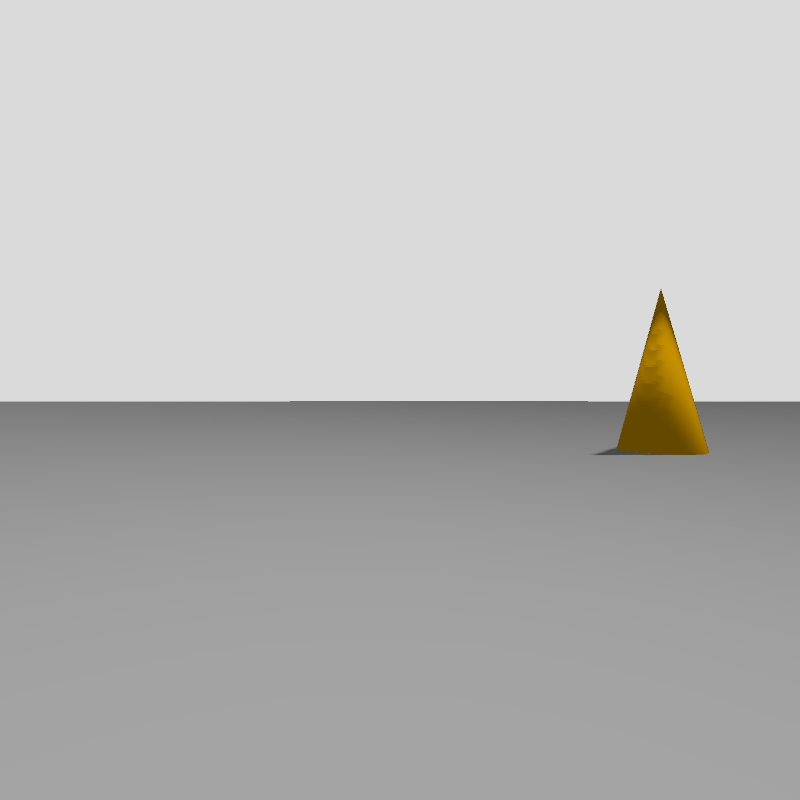Orange_cone: (617, 291, 708, 454)
